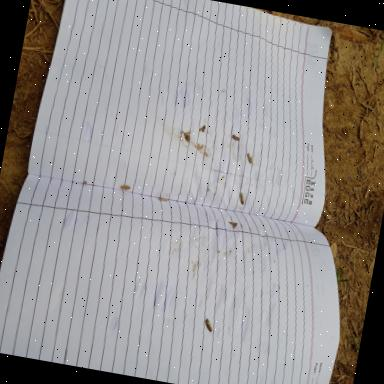pbw: (203, 318, 214, 333), (245, 152, 254, 164), (238, 192, 246, 205), (120, 184, 131, 192), (232, 134, 240, 142), (157, 197, 168, 202)
